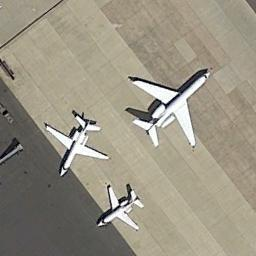Airplane: (122, 62, 218, 153), (44, 114, 112, 178), (94, 179, 146, 231)
